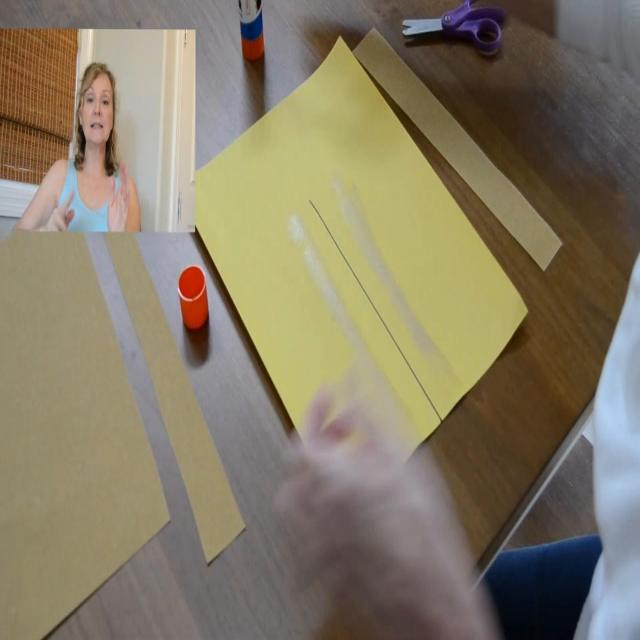scissor: (402, 0, 507, 52)
